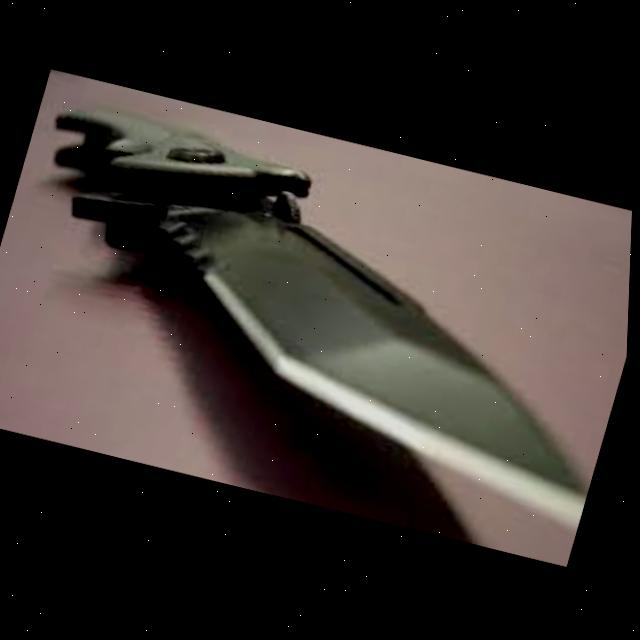knife: (0, 93, 637, 538)
